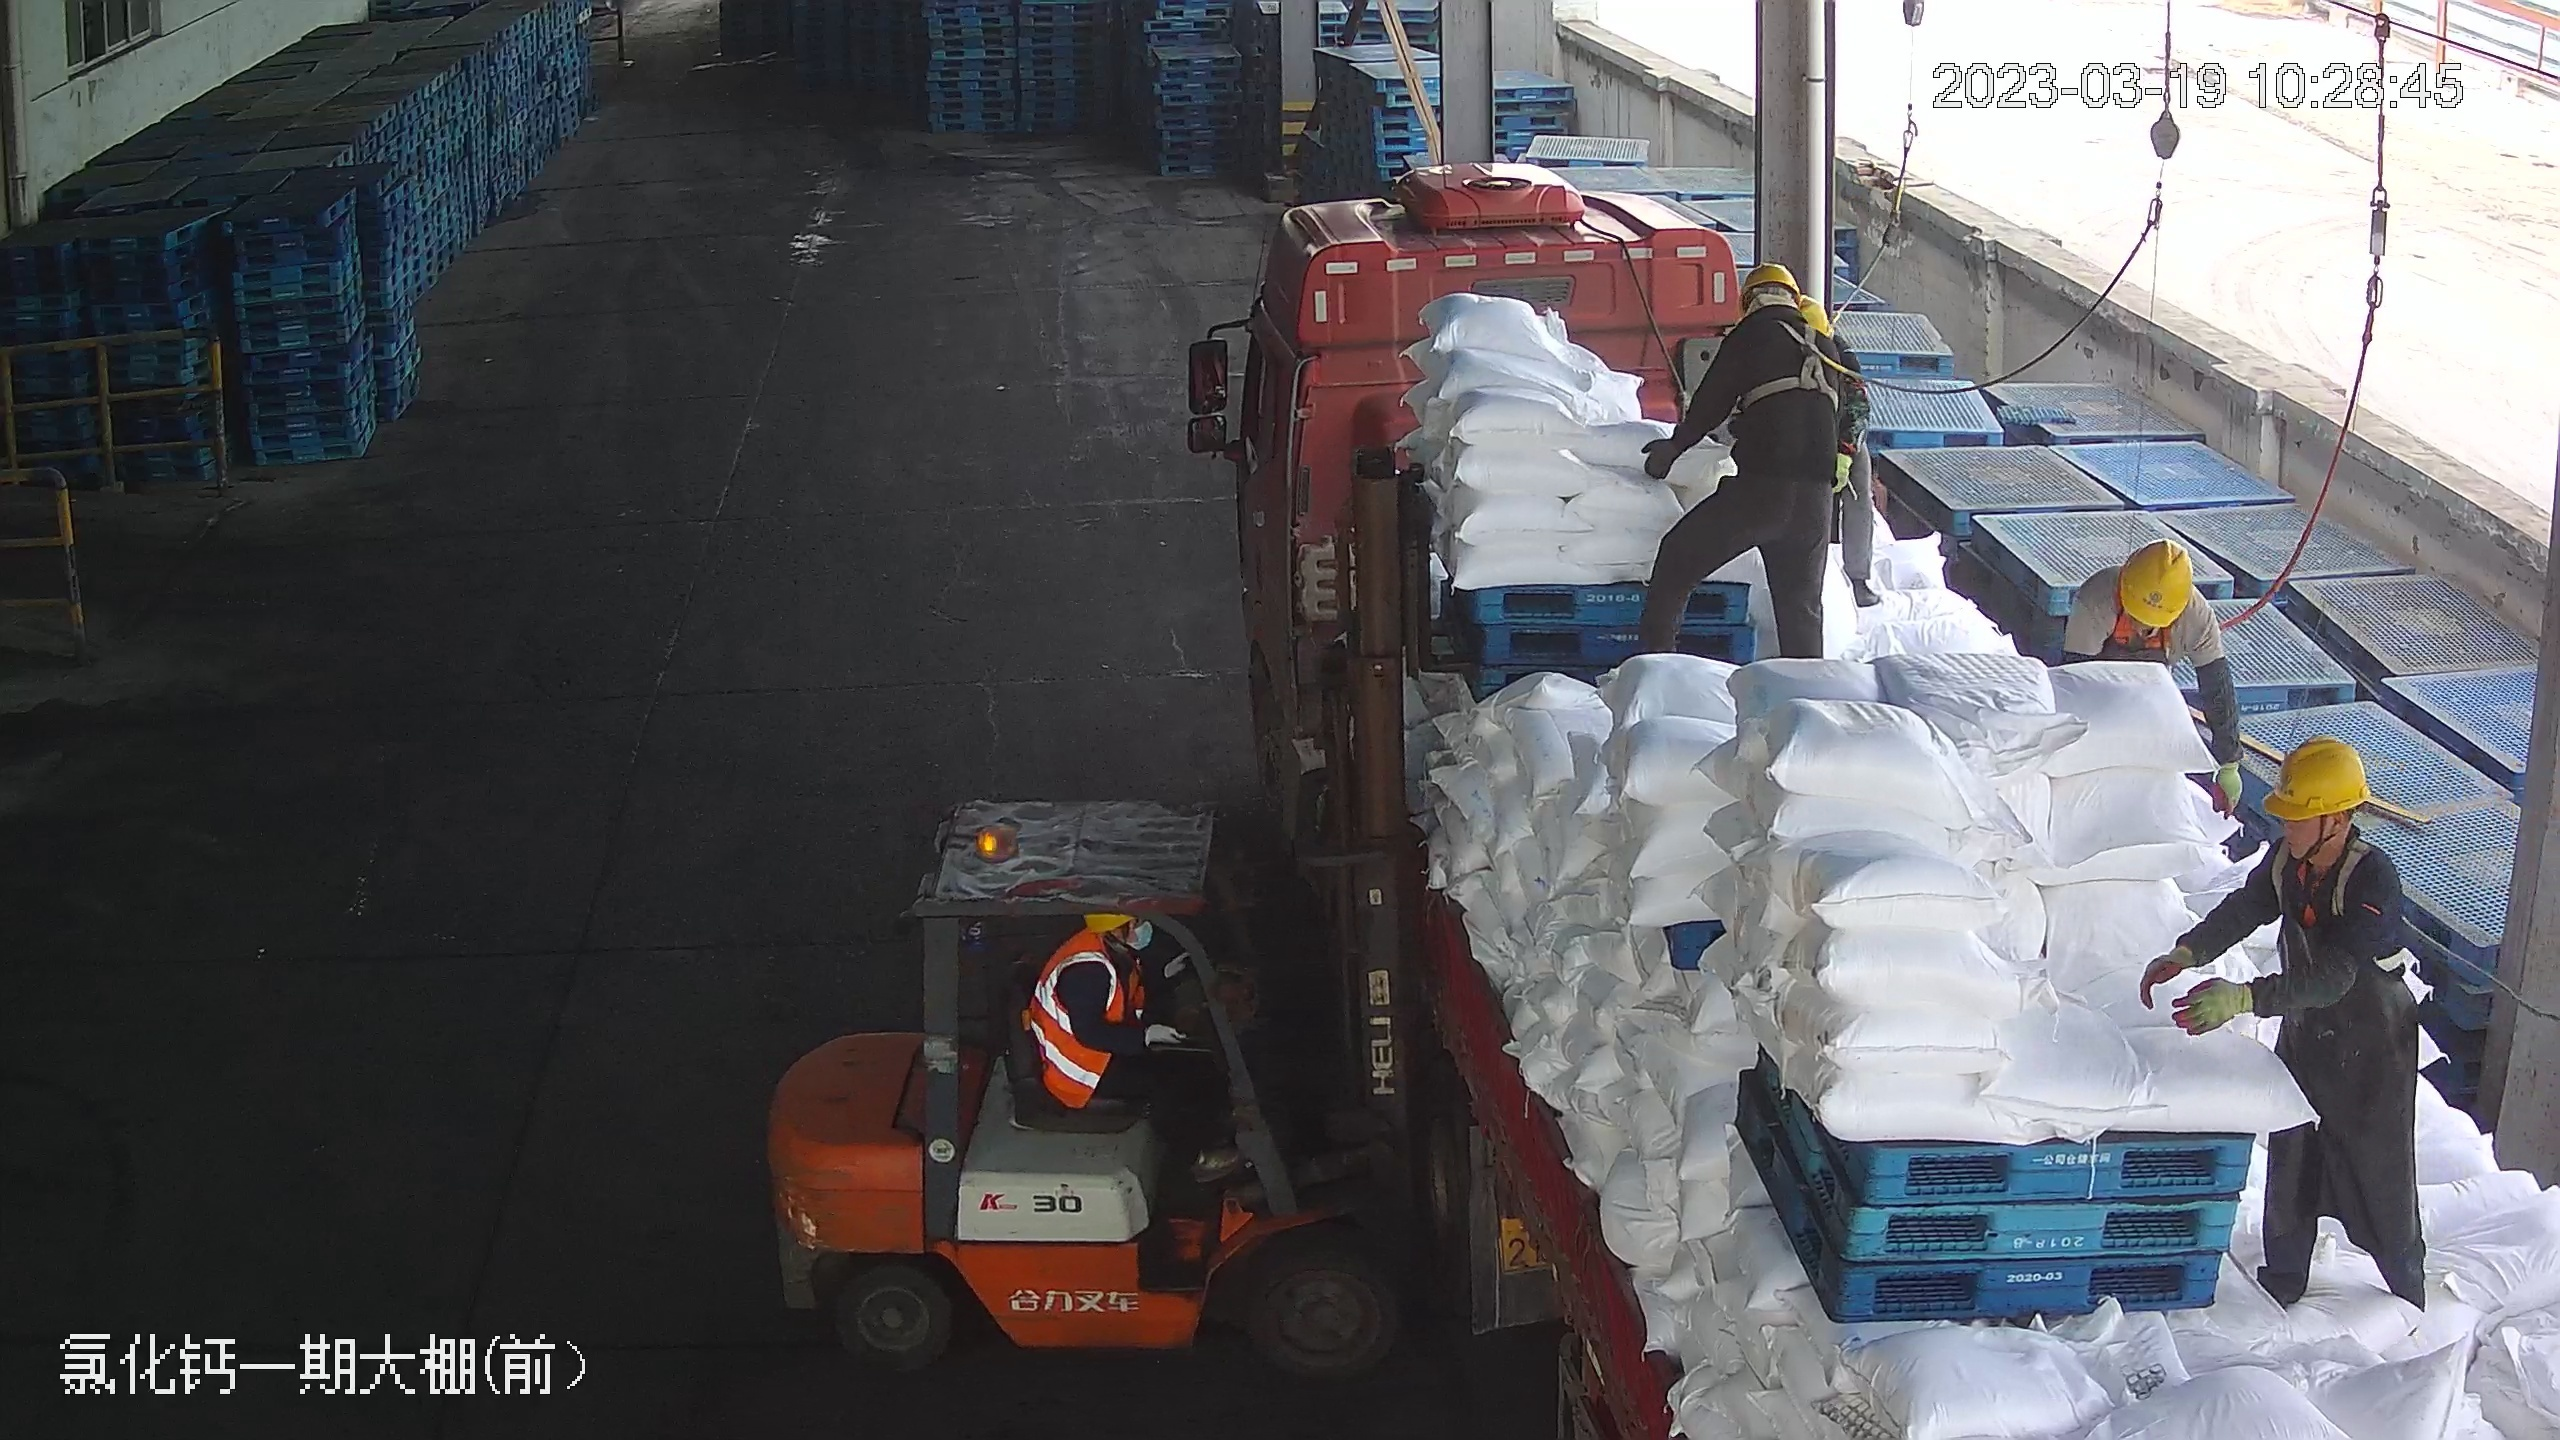belt: (2267, 830, 2401, 938), (1735, 309, 1853, 409), (2101, 607, 2183, 664)
head: (2226, 730, 2407, 934), (1705, 262, 1854, 394), (2072, 537, 2225, 662)
helmet: (2257, 732, 2369, 821), (2111, 537, 2192, 629), (1741, 258, 1802, 312)
people: (2137, 729, 2433, 1317), (1628, 262, 1872, 676), (1022, 903, 1238, 1195)
truck: (1201, 176, 2555, 1440)
